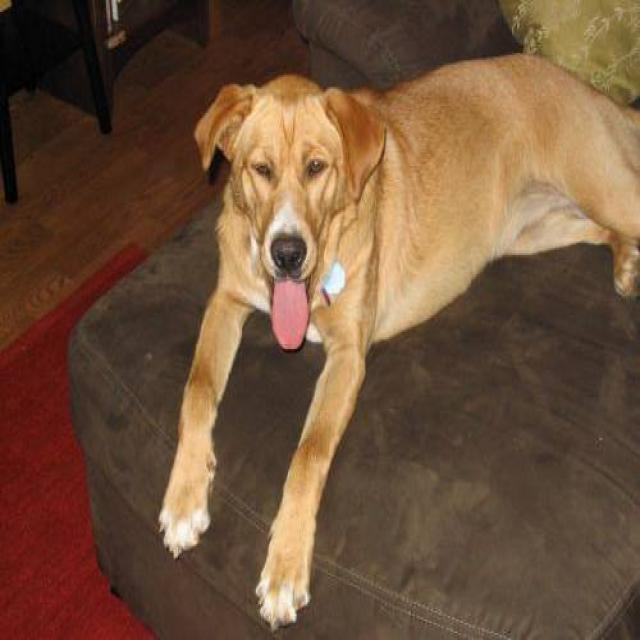dog: (156, 49, 639, 632)
